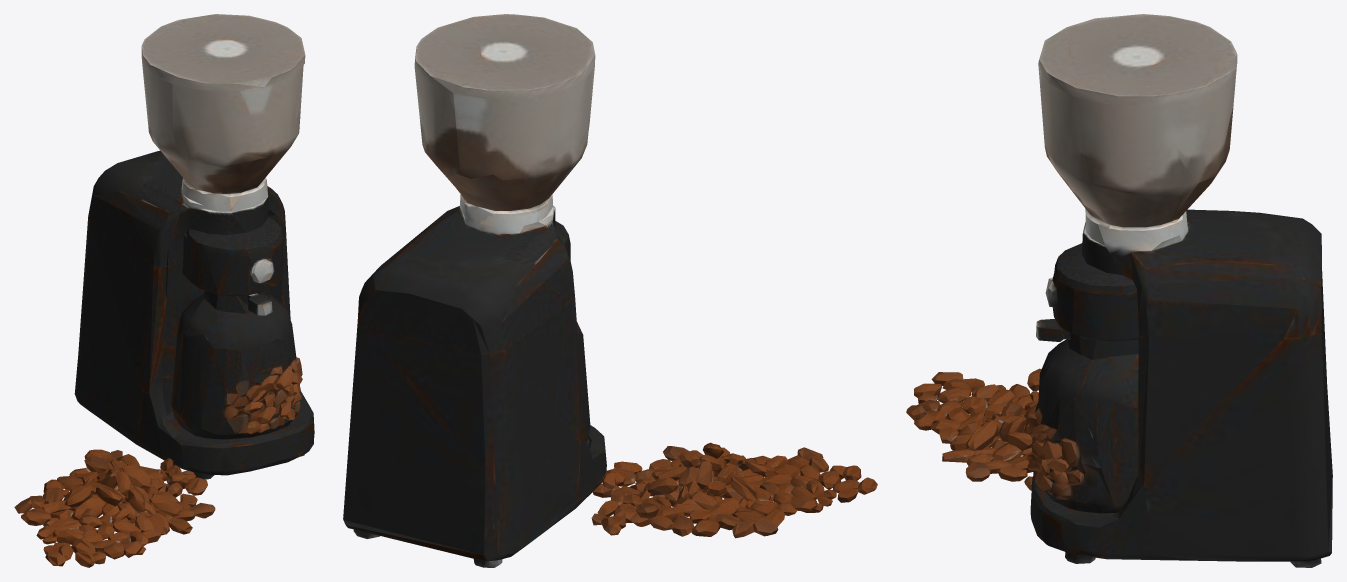
Rendered from grinder.glb.
The picture shows the model from 3 angles, left to right: view 1: azimuth 30°, elevation 25°; view 2: azimuth 150°, elevation 25°; view 3: azimuth 270°, elevation 25°; orthographic projection. The views are drawn at different scales.
Size of the model in its own units: 1.65 by 1.9 by 1.54.
1 material, 1 textured.
